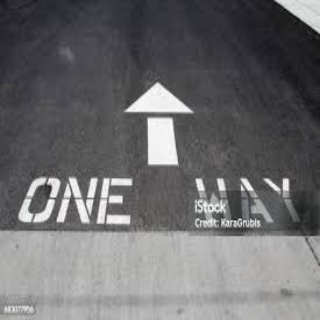road_oneway: (105, 76, 198, 170)
